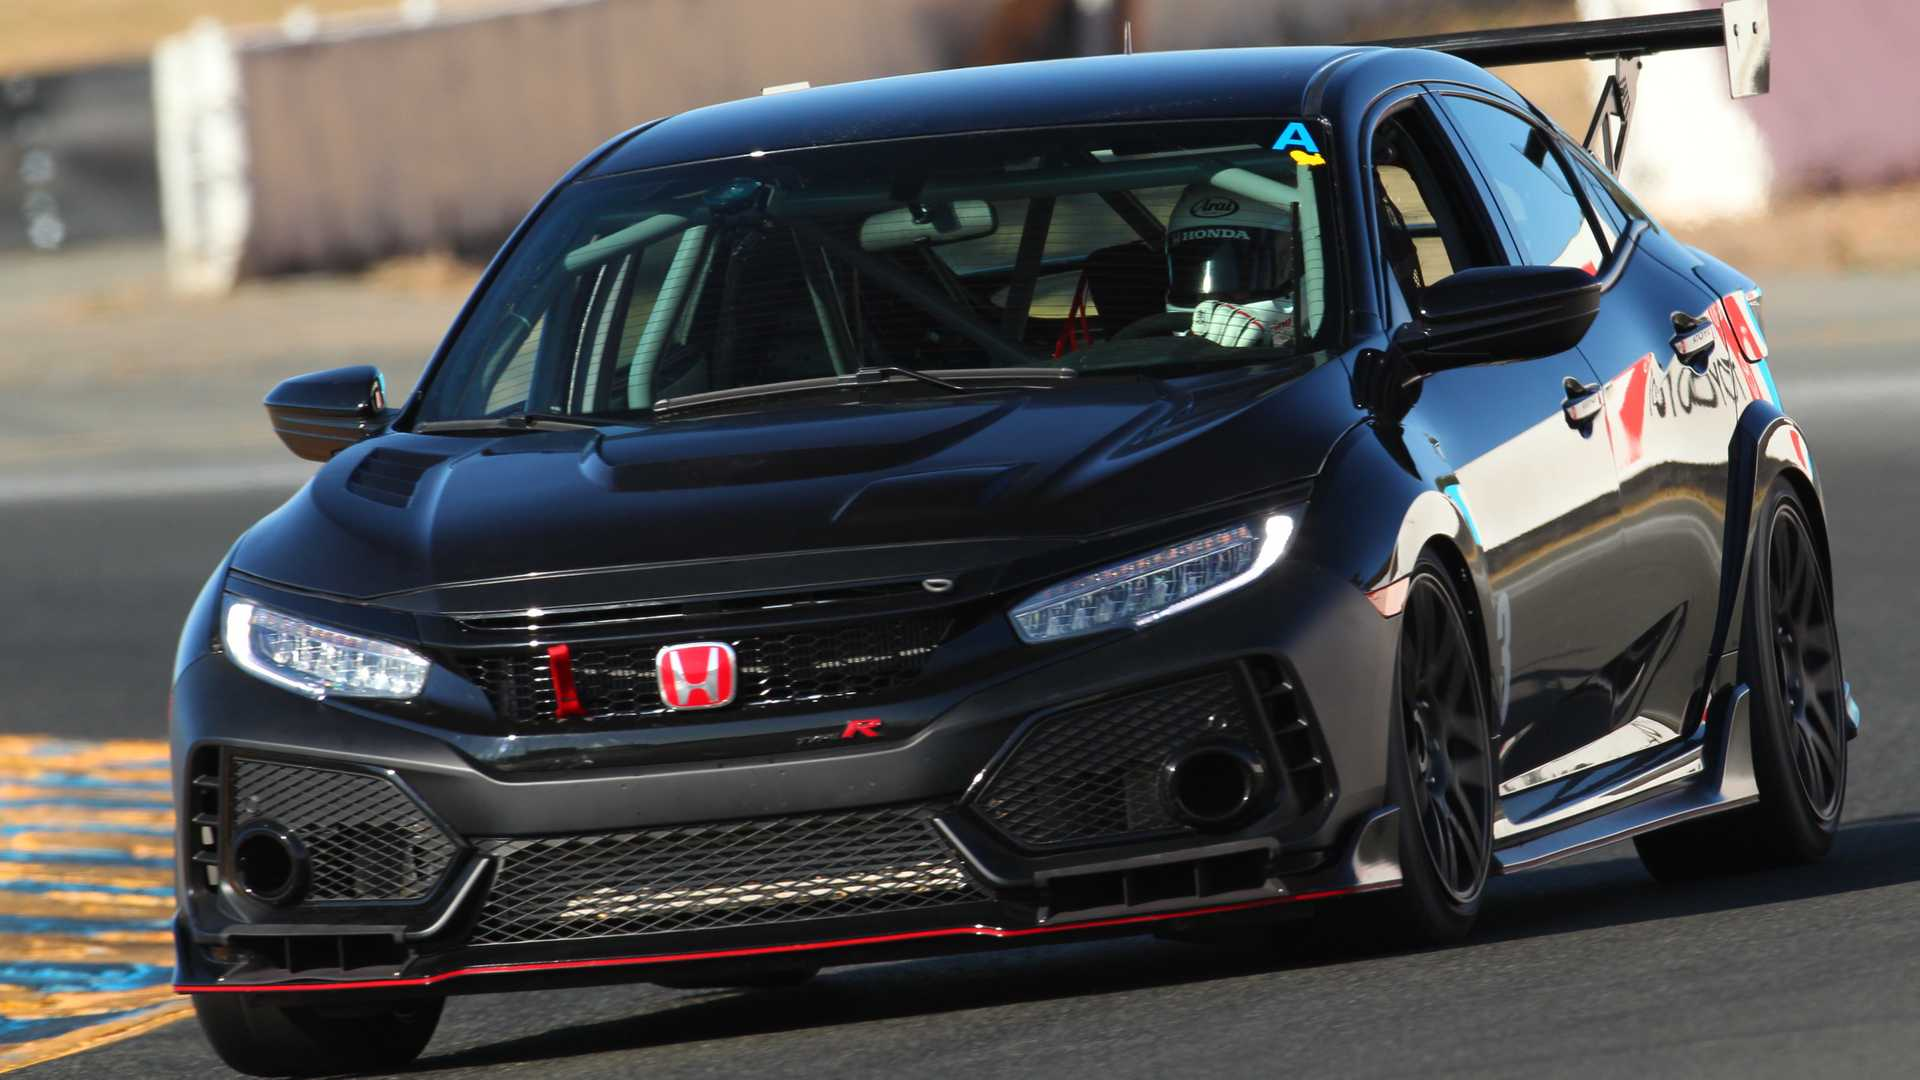araba: (167, 1, 1855, 1071)
